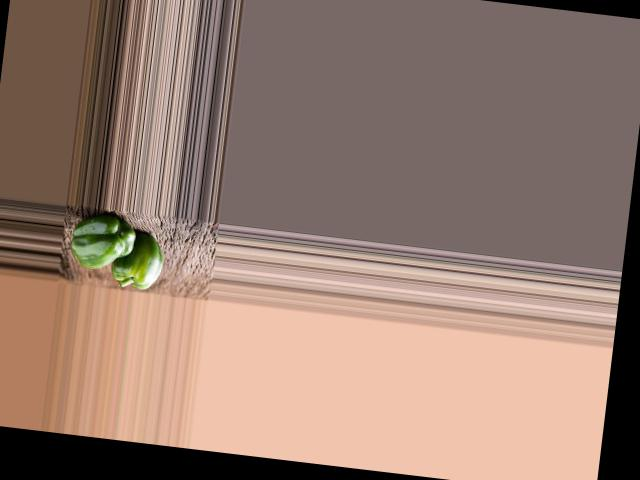bell_pepper: (69, 213, 139, 274)
